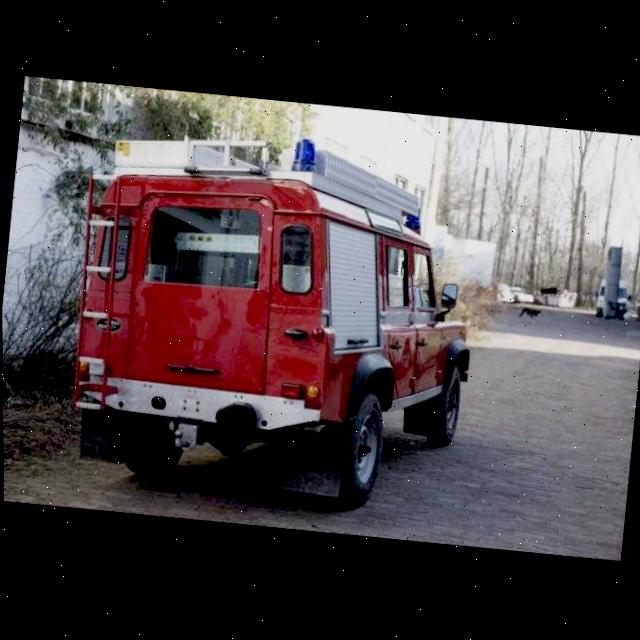emergency: (56, 114, 492, 519)
